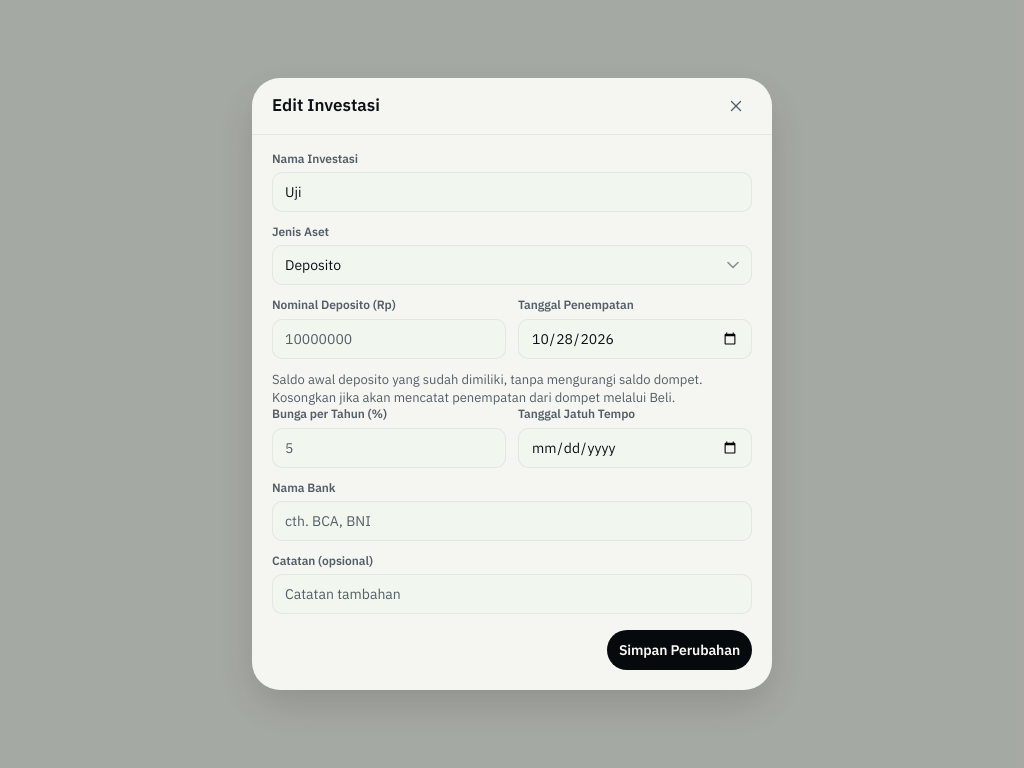
Test: blocks invalid nominal 0 before saving
The image size is (1024, 768).
Type "0" into the number field named "Nominal Deposito (Rp)" at x=389, y=339, box top-left (272, 319), bottom-right (506, 359)
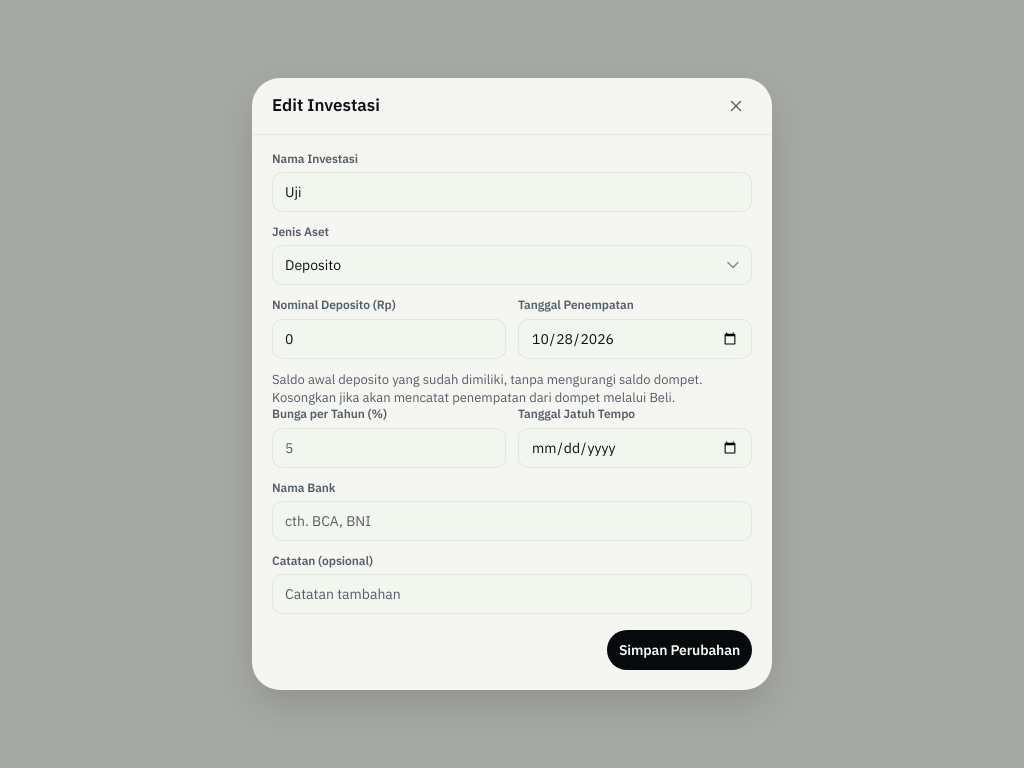
Click the button "Simpan Perubahan" at x=679, y=650, box top-left (607, 630), bottom-right (752, 670)
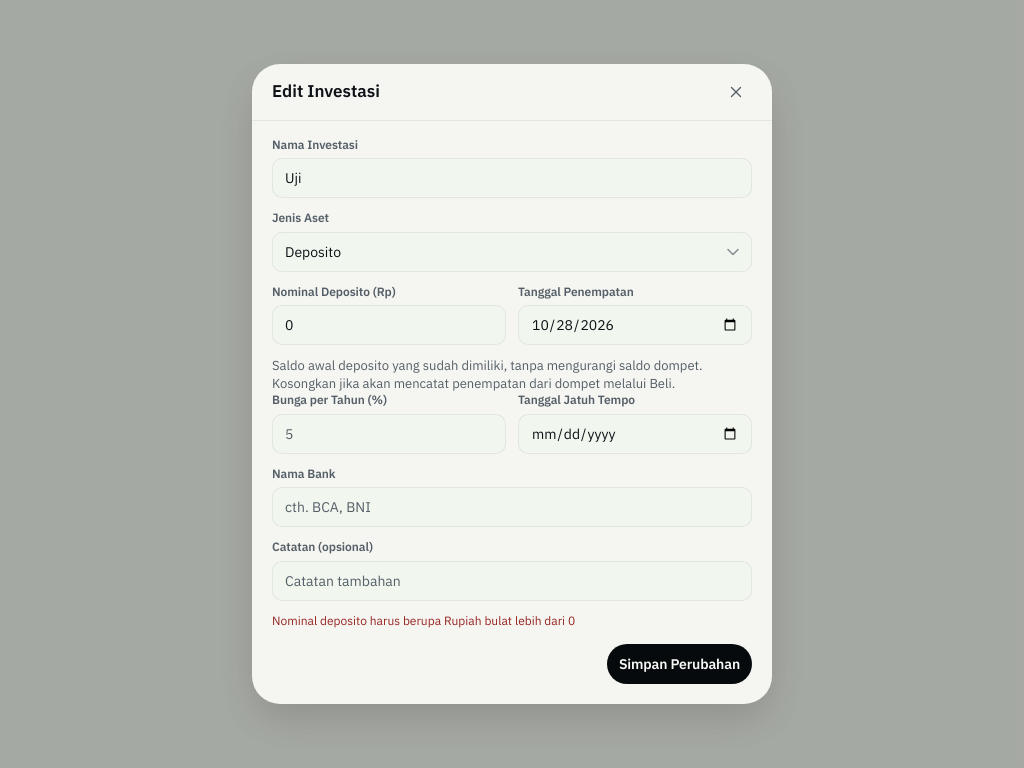
expect the text "Nominal deposito harus berupa Rupiah bulat lebih dari 0" is shown: met, box top-left (272, 613), bottom-right (575, 628)
